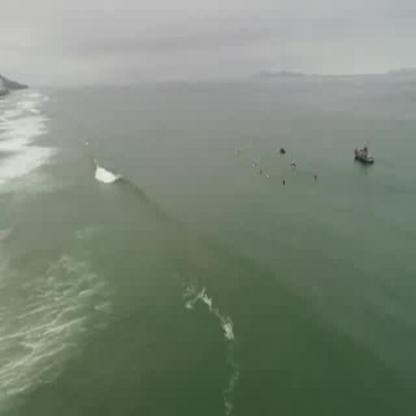Boat: (353, 144, 376, 174)
